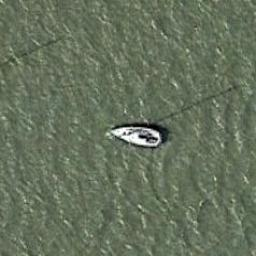boat: (108, 123, 164, 150)
